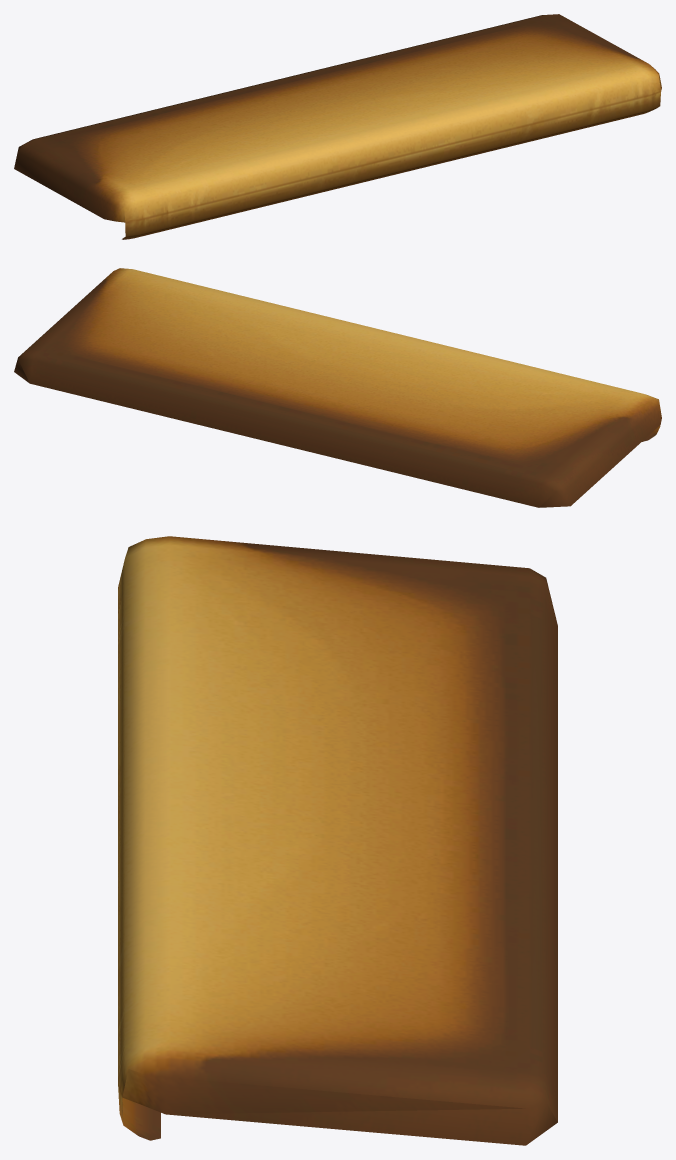
File: LovelyLoveseat_Cushion.fbx
3 views of the same model, one above another, from view 1: azimuth 30°, elevation 25°; view 2: azimuth 150°, elevation 25°; view 3: azimuth 270°, elevation 25° (orthographic). The views are drawn at different scales.
Visible parts, largest first — view 1: TinyLiving_LovelyLoveseat_Cushion; view 2: TinyLiving_LovelyLoveseat_Cushion; view 3: TinyLiving_LovelyLoveseat_Cushion.
Boxes of the visible parts, box(x1,y1,x2,y2) form: TinyLiving_LovelyLoveseat_Cushion: box(14, 14, 661, 239); TinyLiving_LovelyLoveseat_Cushion: box(14, 268, 661, 507); TinyLiving_LovelyLoveseat_Cushion: box(118, 536, 557, 1145).
Bounding box in the file's own units: 155 × 12.84 × 52.88.
